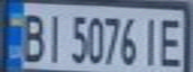0: (84, 12, 106, 65)
5: (66, 10, 87, 64)
6: (118, 14, 142, 68)
7: (103, 12, 121, 65)
B: (15, 9, 48, 63)
E: (157, 13, 187, 69)
I: (42, 9, 69, 64), (139, 14, 163, 68)
